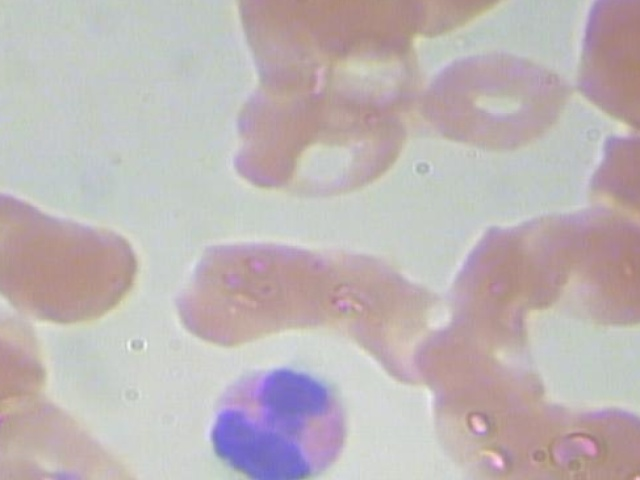RBC: (173, 227, 350, 352), (259, 88, 413, 204), (398, 305, 552, 421), (416, 49, 575, 155), (9, 209, 142, 327), (520, 205, 640, 331), (573, 0, 640, 137), (0, 398, 111, 480), (0, 304, 70, 429), (550, 397, 640, 480)
WBC: (196, 352, 359, 480)
